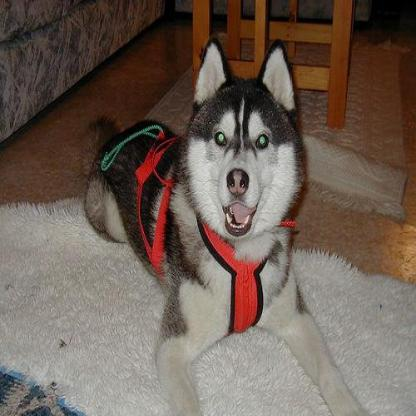Siberian_husky: (80, 38, 374, 414)
